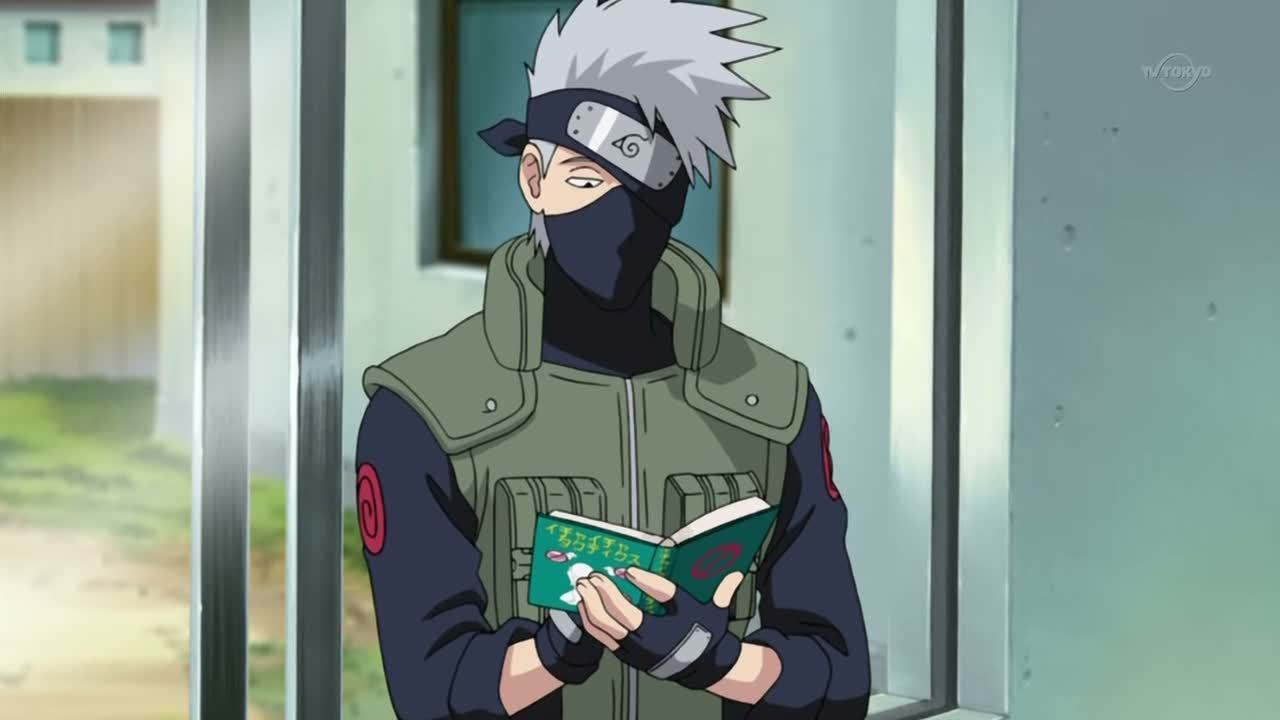kakashi: (517, 80, 698, 318)
